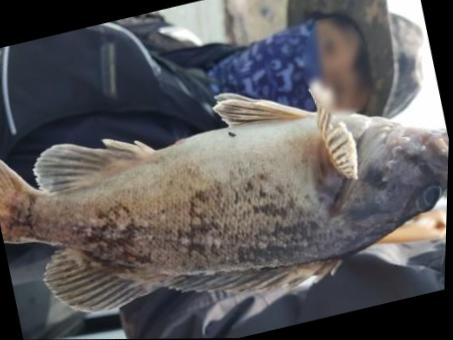fish: (0, 80, 450, 313)
